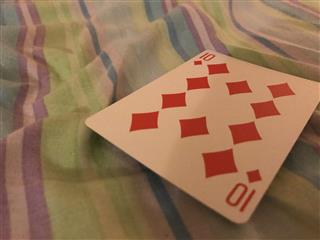TenOfDiamonds: (83, 47, 318, 226)
